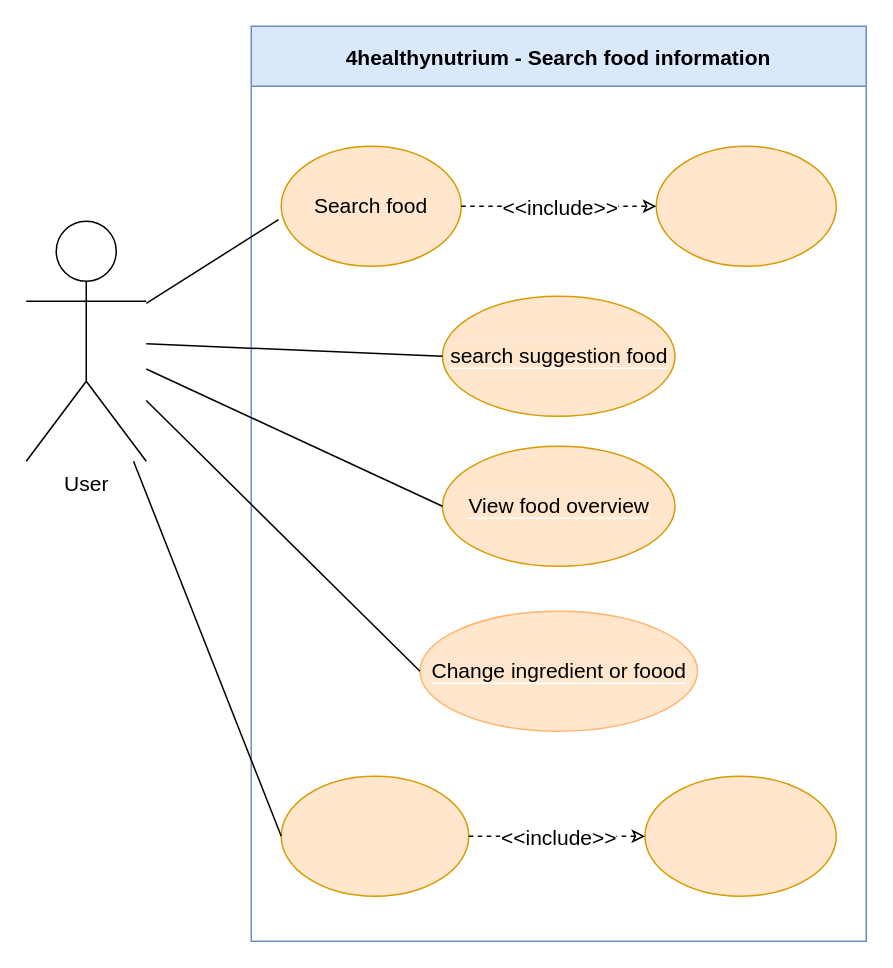
Some shapes in this 893 by 968 pixel diagram are drawn without their labels. The centre of each missing label's shape, as x and y in pixels:
"filter food" belongs at (x=745, y=205).
"View food detail" belongs at (x=374, y=835).
"View food list" belongs at (x=740, y=835).
